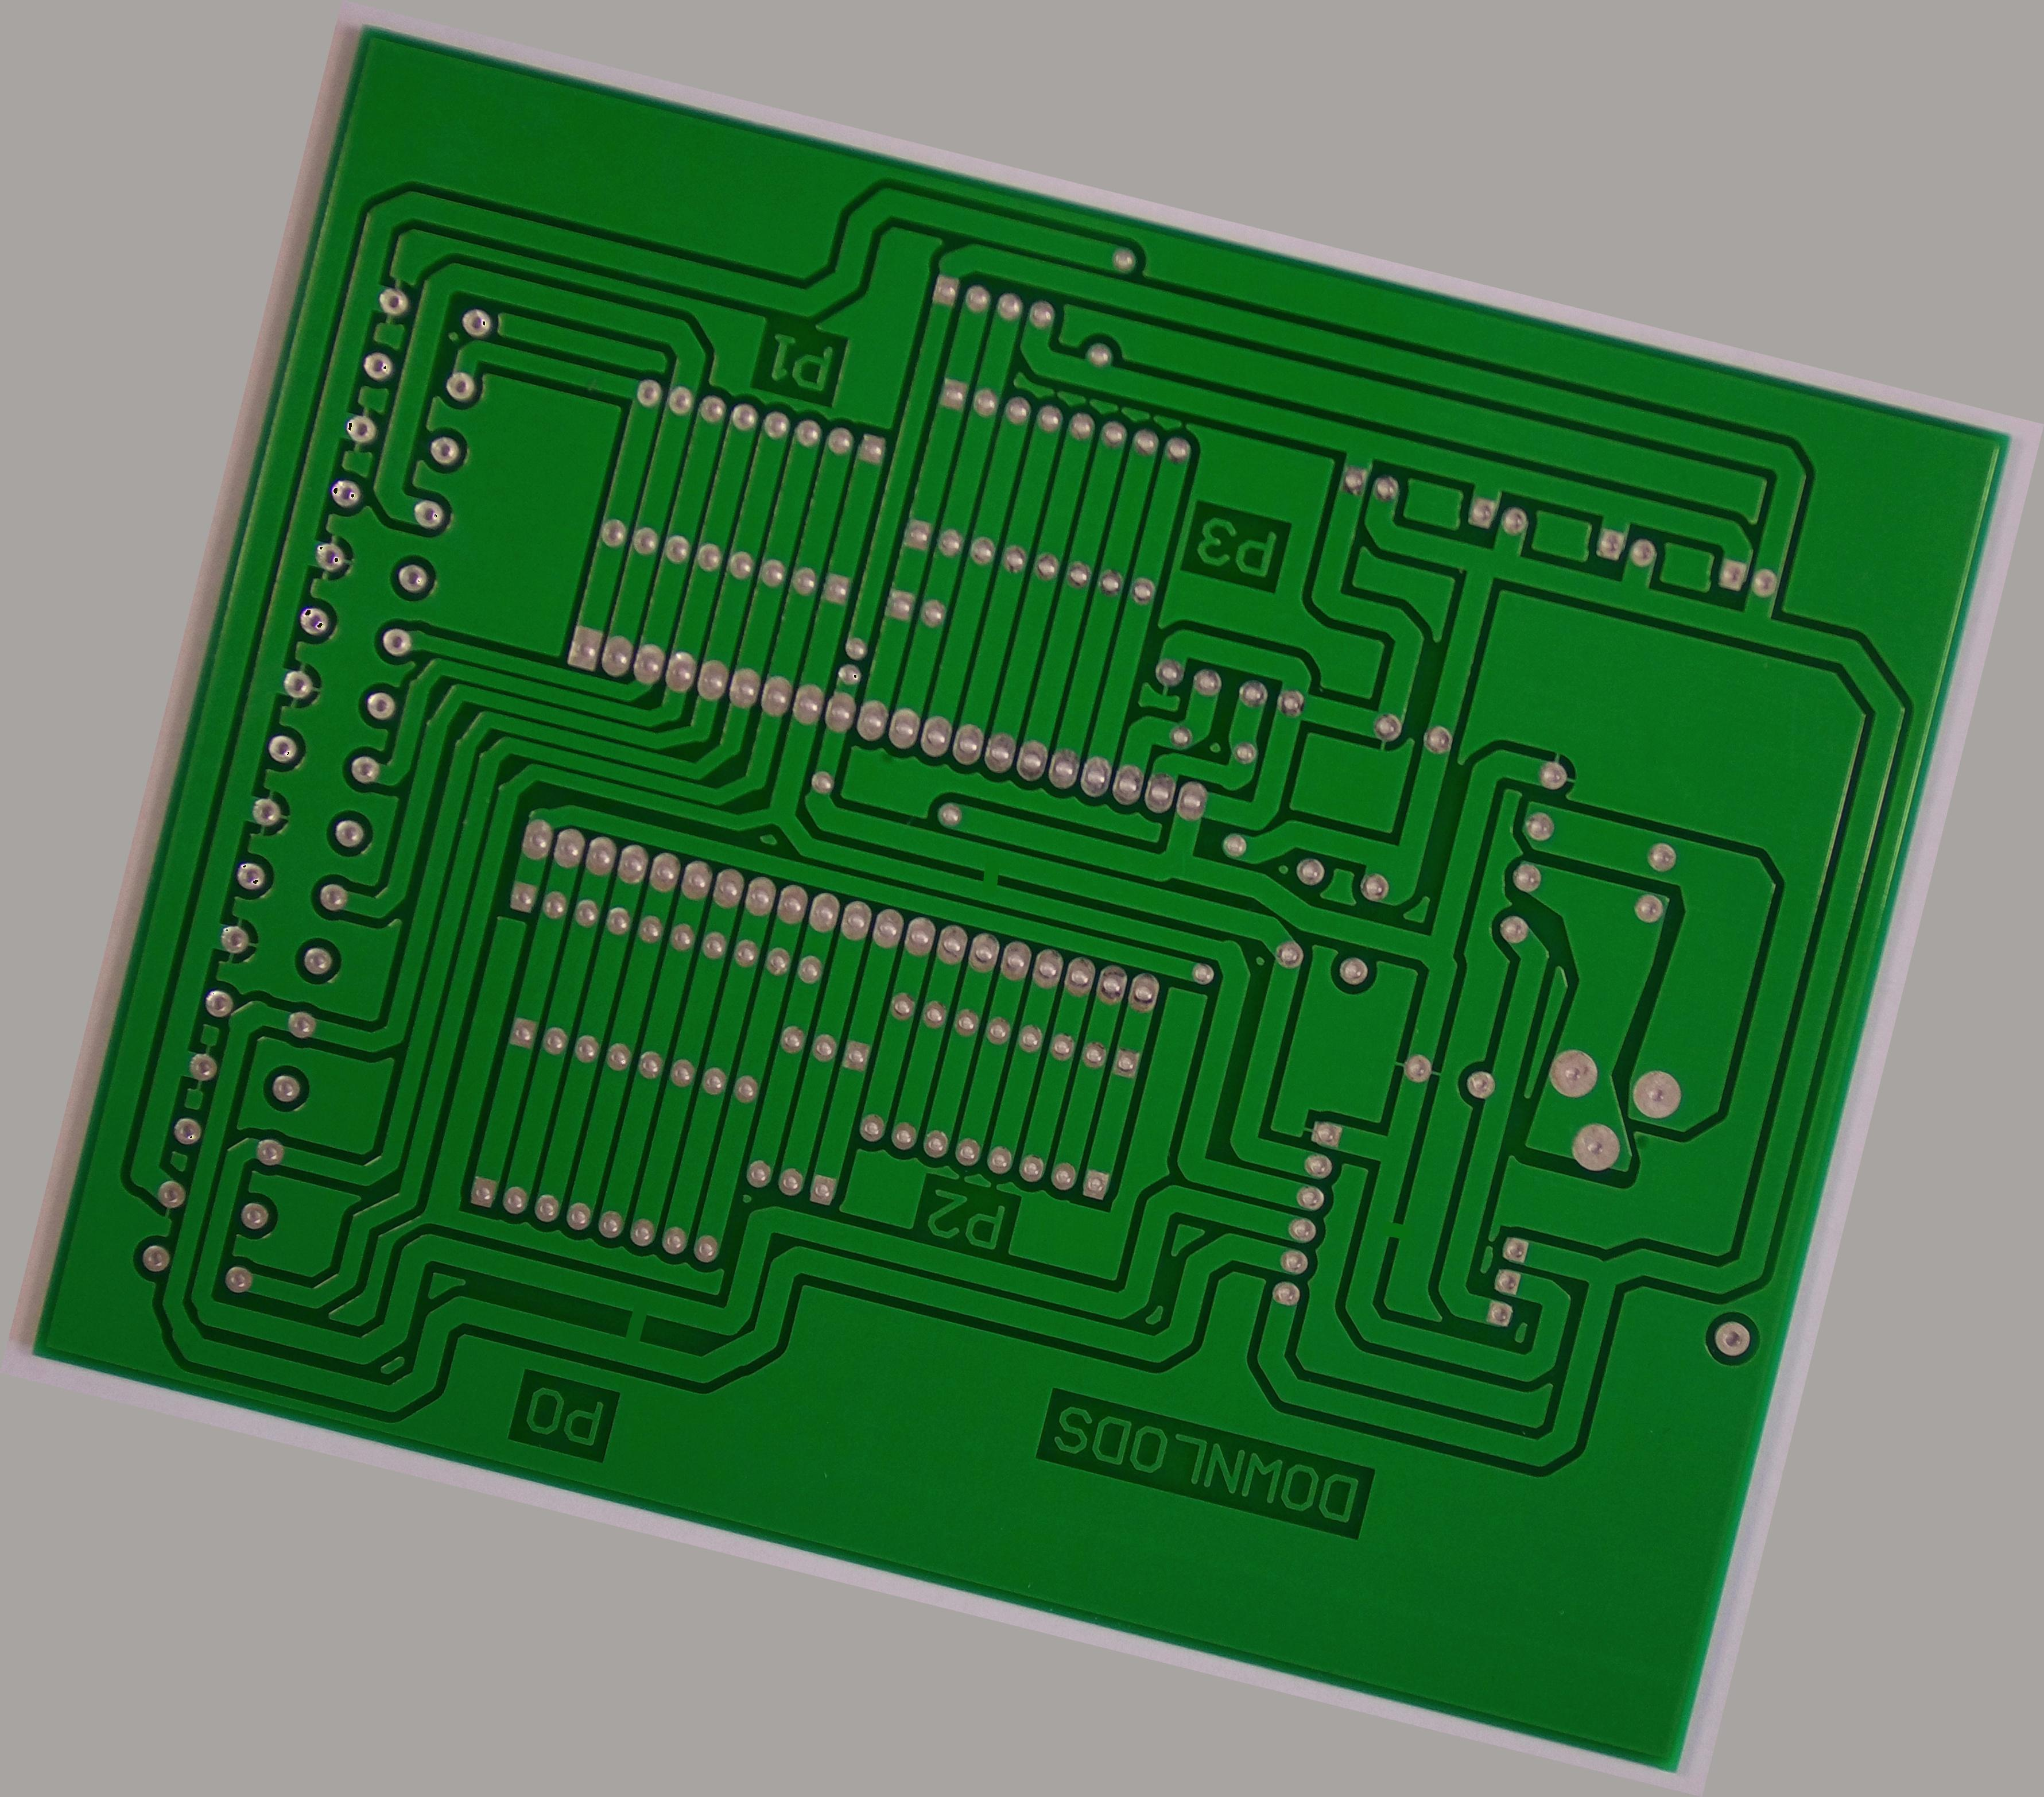short: (579, 1262, 688, 1380), (1361, 1184, 1441, 1276), (947, 834, 1032, 916)
